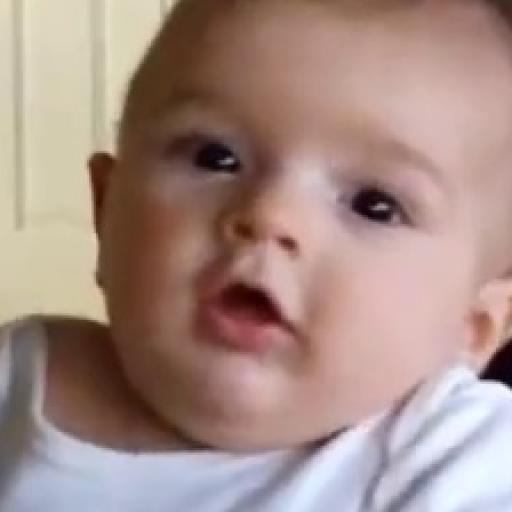Autism: (121, 10, 512, 429)
